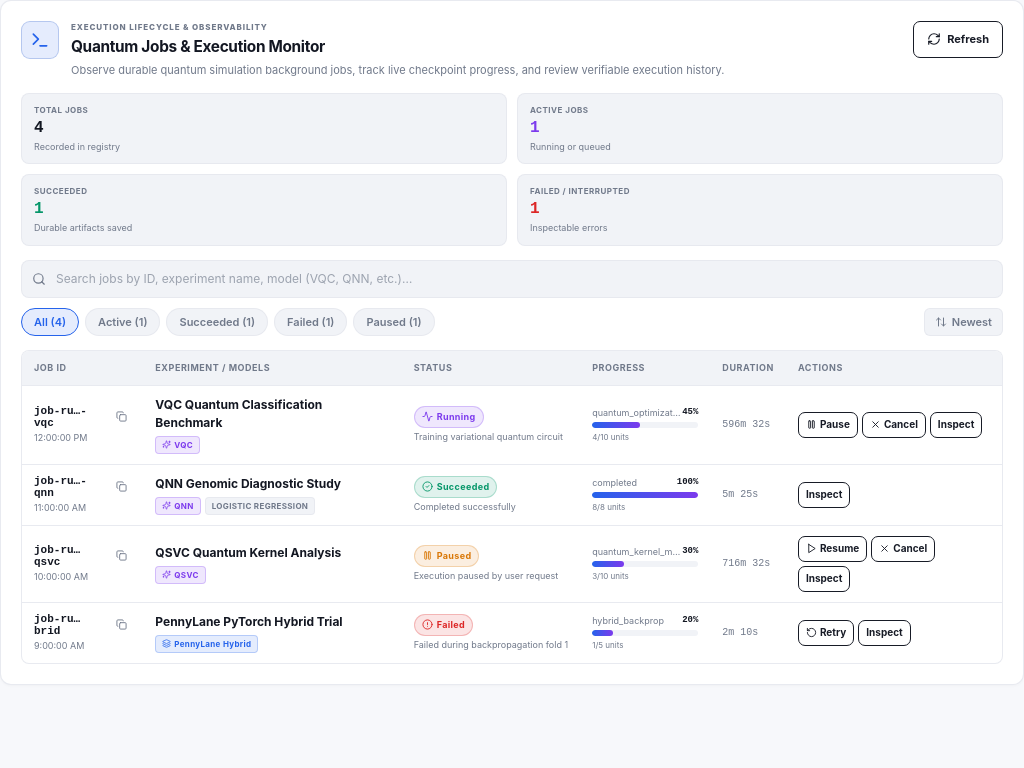
Scenario: QuantumJobManager component › searches jobs by text input matching model name, experiment title, or job ID
Expected: the text "VQC Quantum Classification Benchmark" is shown, [155,396,322,430]
Type "genomic" into the field labelled "Search jobs by ID, experiment name, model (VQC, QNN, etc.)…" at [512, 278], box [21,260,1003,298]
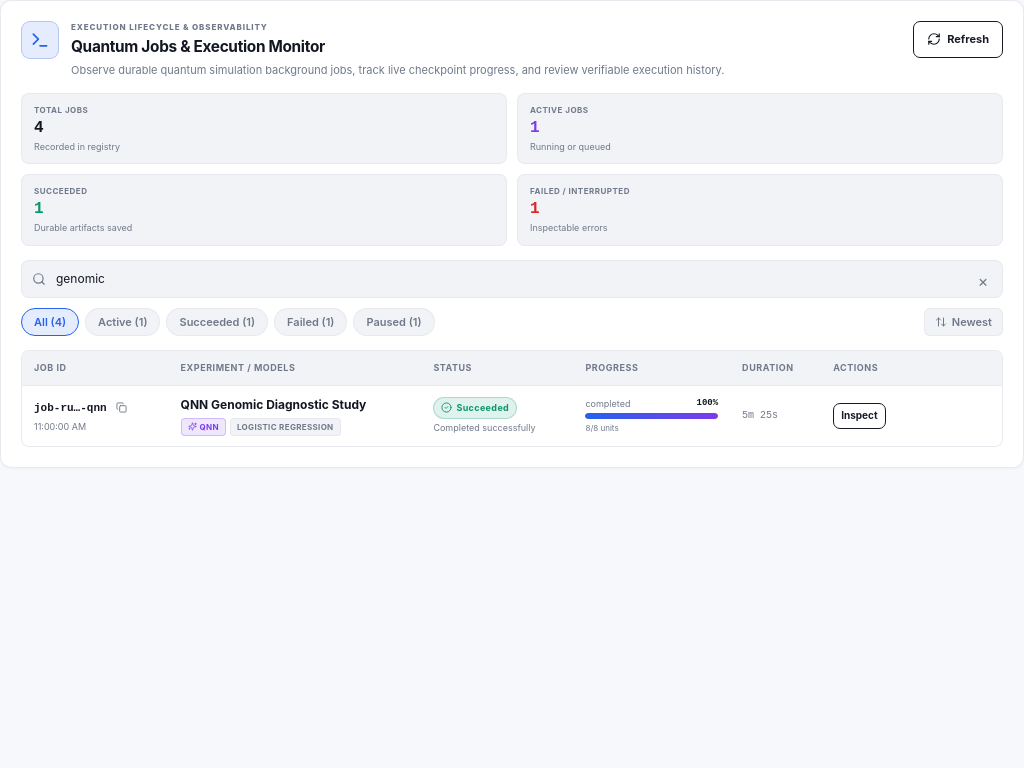
Expected: the text "QNN Genomic Diagnostic Study" is shown, [181,396,366,412]
Expected: the text "VQC Quantum Classification Benchmark" is gone
